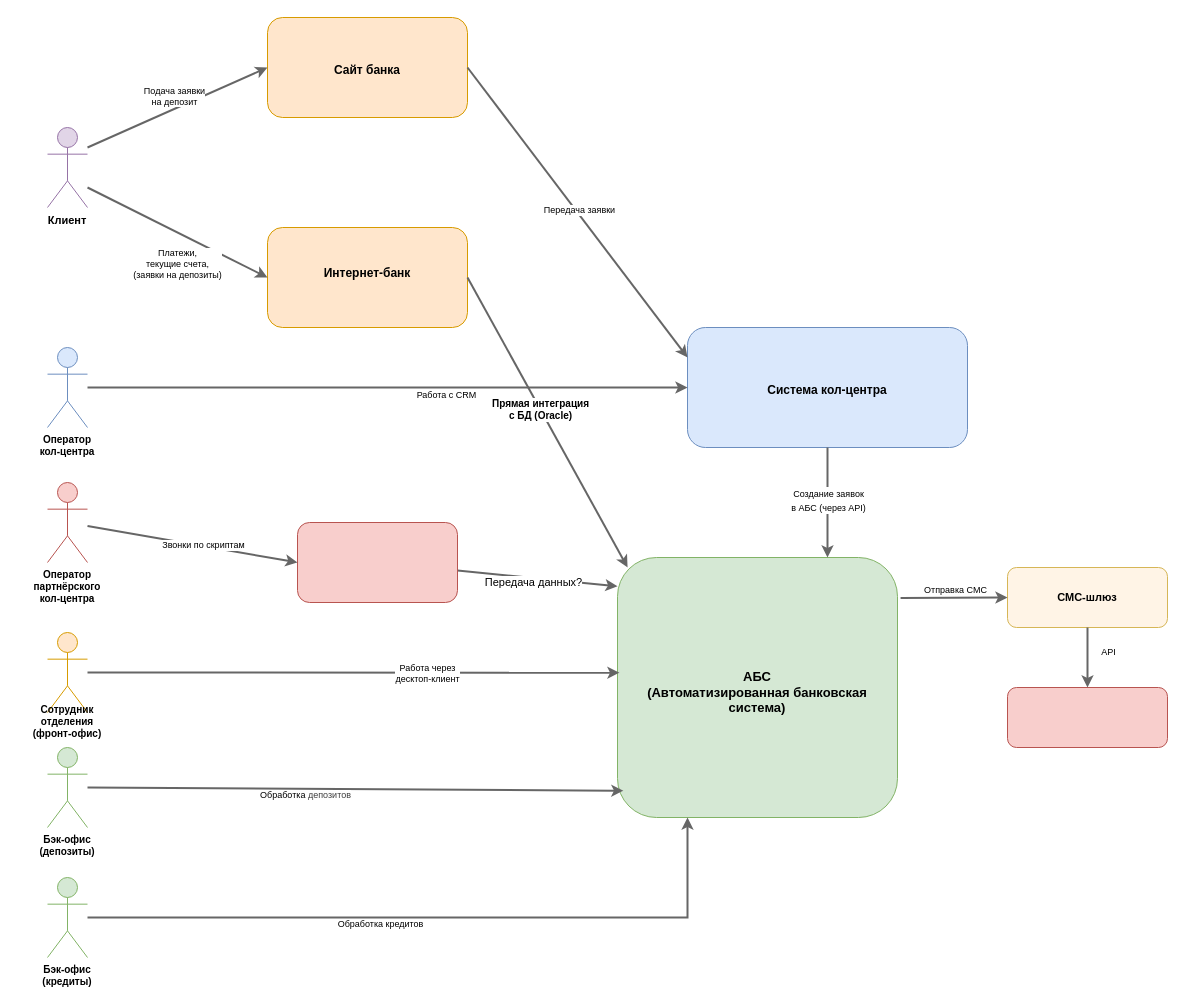
This 1185x1006 diagram has some shape labels left out. Here are the shapes that lost their labels. From the top down, the centre of each, then its label:
(377,562): Партнёрский кол-центр (внешняя система)
(1087,717): Телеком-оператор (внешний)
